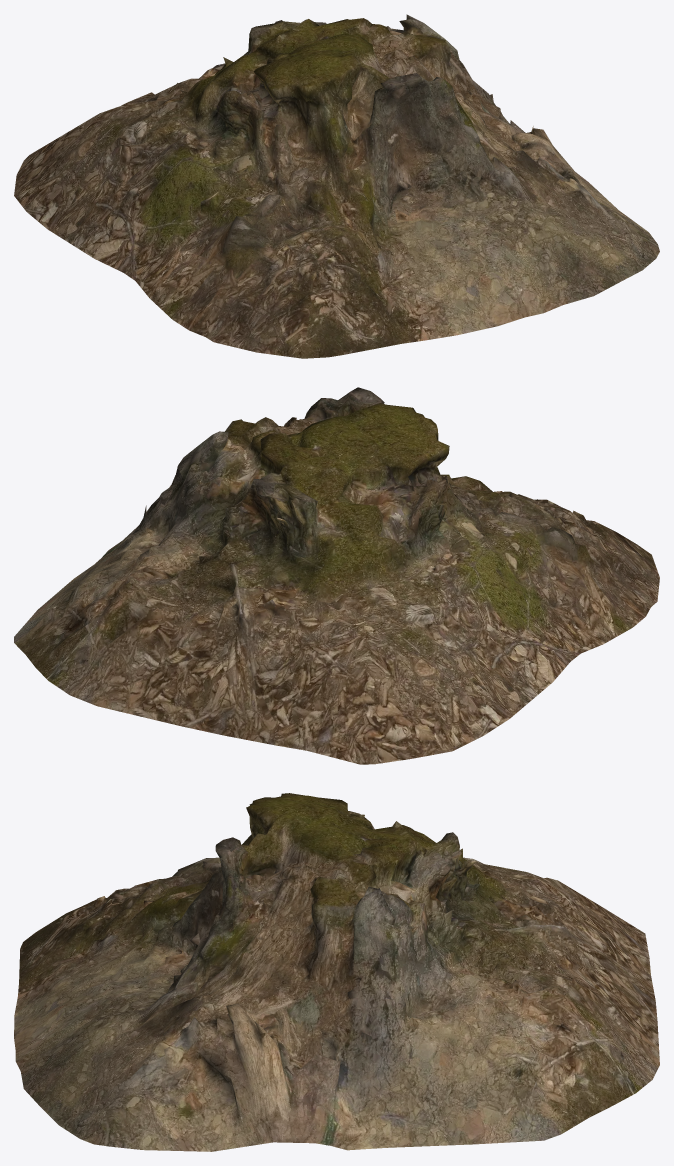
Rendered from tree_stump_01.glb.
The picture shows the model from 3 angles, top to bottom: view 1: azimuth 30°, elevation 25°; view 2: azimuth 150°, elevation 25°; view 3: azimuth 270°, elevation 25°; orthographic projection. The views are drawn at different scales.
Parts seen in each view (by area): view 1: tree_stump_01; view 2: tree_stump_01; view 3: tree_stump_01.
Boxes of the visible parts, box(x1,y1,x2,y2) form: tree_stump_01: box(14, 14, 659, 358); tree_stump_01: box(14, 387, 659, 764); tree_stump_01: box(14, 793, 659, 1151).
Size of the model in its own units: 1.43 by 0.571 by 1.59.
1 material, 1 textured.
